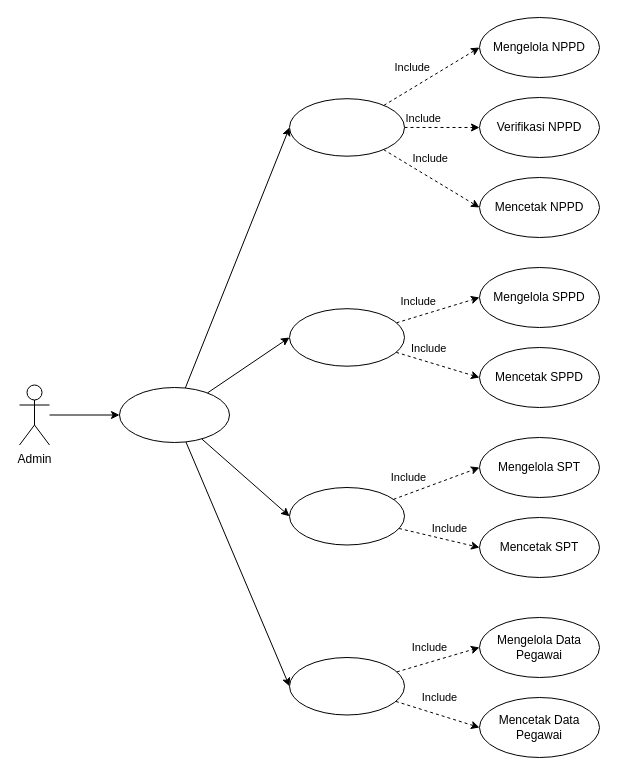
Some shapes in this 617 by 775 pixel diagram are drawn without their labels. Here are the shapes that lost their labels. From the top down, the centre of each, then its label:
At [346,127]: "NPPD".
At [346,337]: "SPPD".
At [174,414]: "Login".
At [346,515]: "SPT".
At [346,685]: "Data Pegawai".
